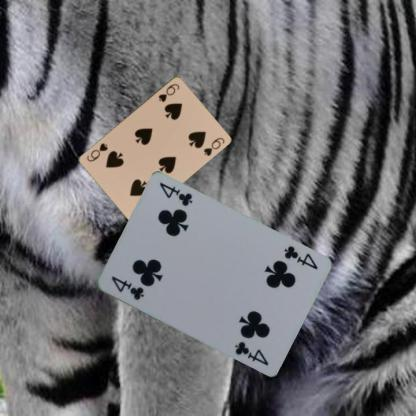4c: (108, 273, 145, 302), (281, 243, 319, 271)
6s: (156, 81, 181, 103)
